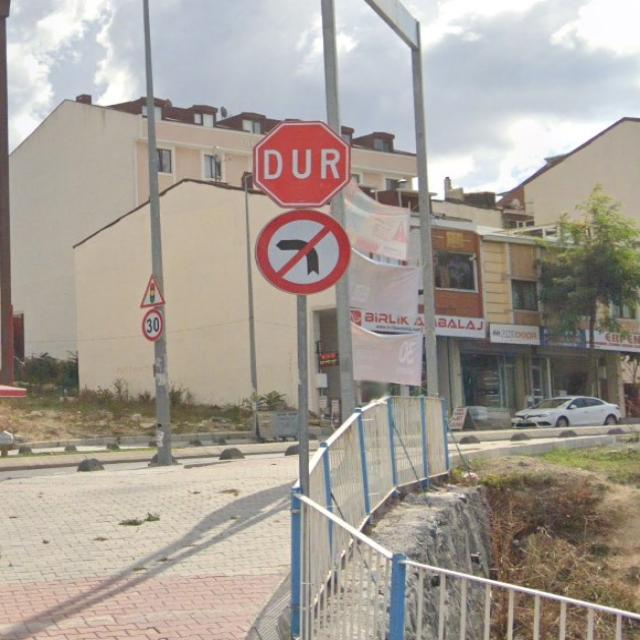30: (141, 309, 162, 340)
dur: (252, 121, 350, 207)
soladonulmez: (255, 210, 350, 295)
